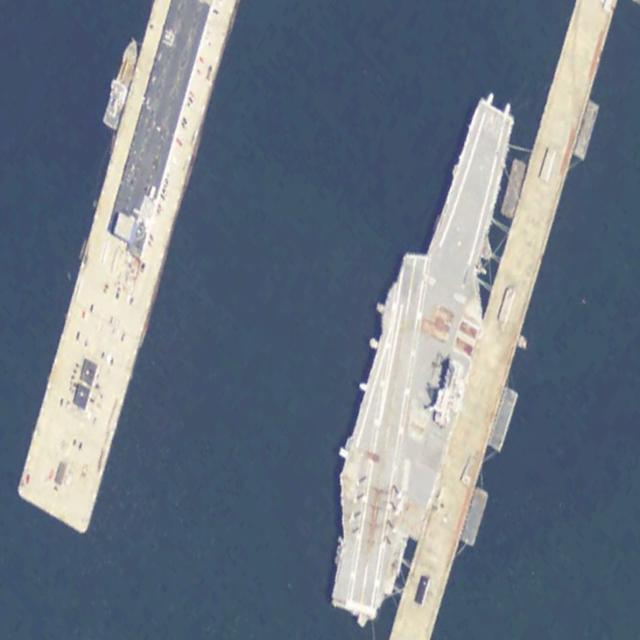Aircraft Carrier: (295, 65, 545, 636)
Other Ship: (102, 35, 142, 132)
